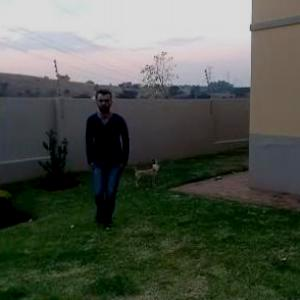follow: (85, 82, 134, 232)
